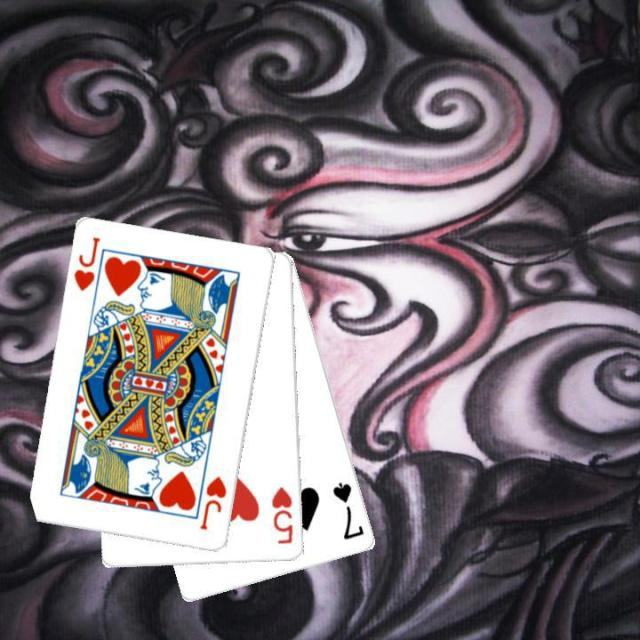5H: (269, 484, 295, 546)
7S: (329, 479, 366, 542)
JH: (197, 473, 230, 532), (70, 234, 102, 293)
